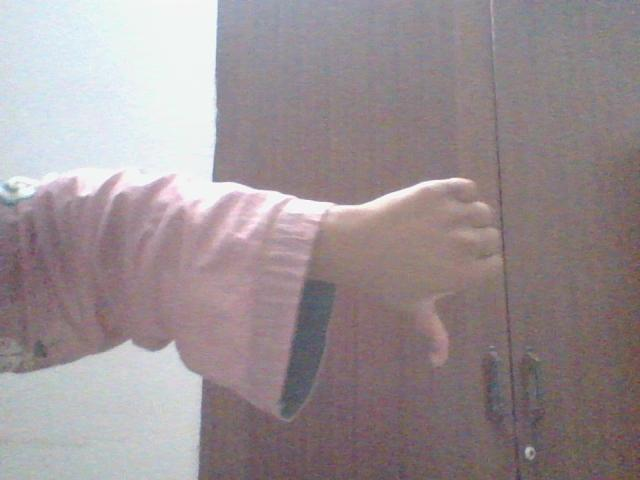thumbs-down: (379, 173, 514, 380)
